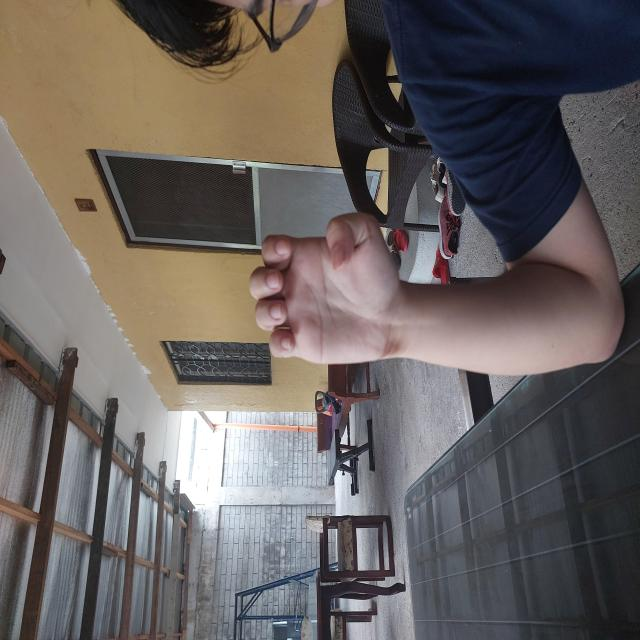E: (274, 246, 431, 404)
